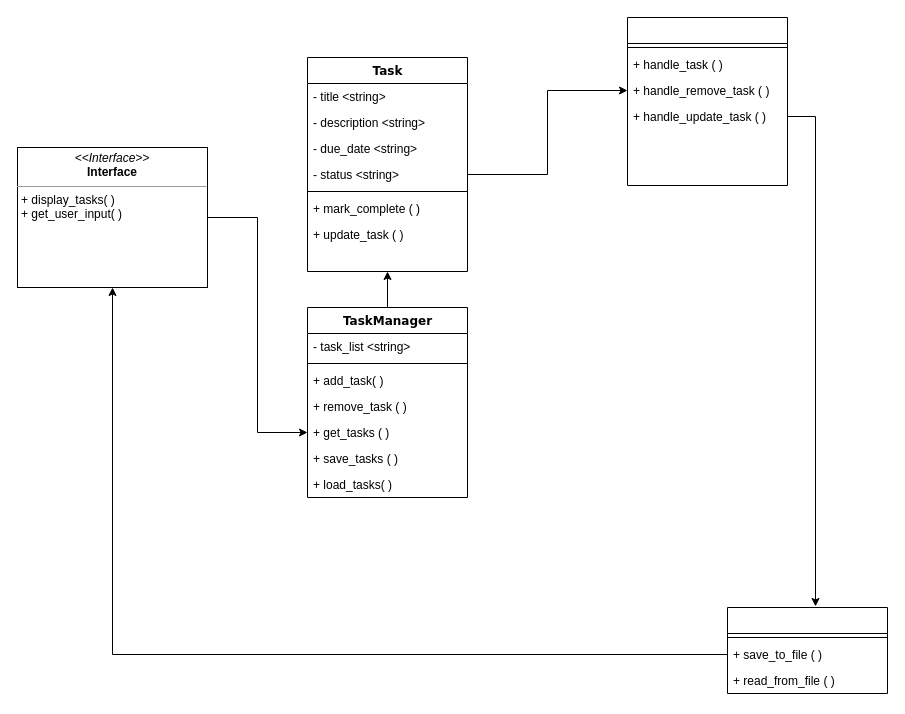
Some shapes in this 905 by 714 pixel diagram are drawn without their labels. The box of each missing label's shape, as (x1, y1, x2, y2) in pixels:
Controller: (626, 16, 788, 186)
FileStorage: (726, 606, 888, 694)
